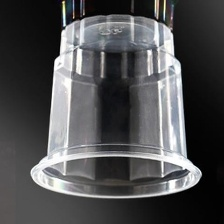glass: (24, 14, 202, 203)
